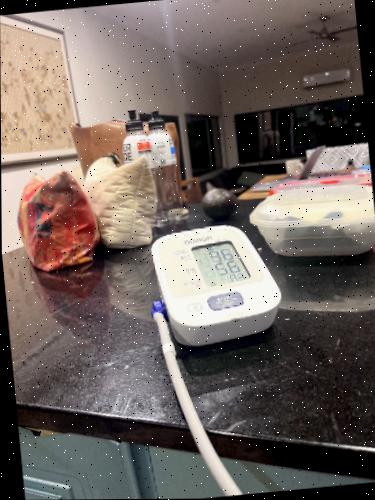bpm: (187, 234, 259, 293)
